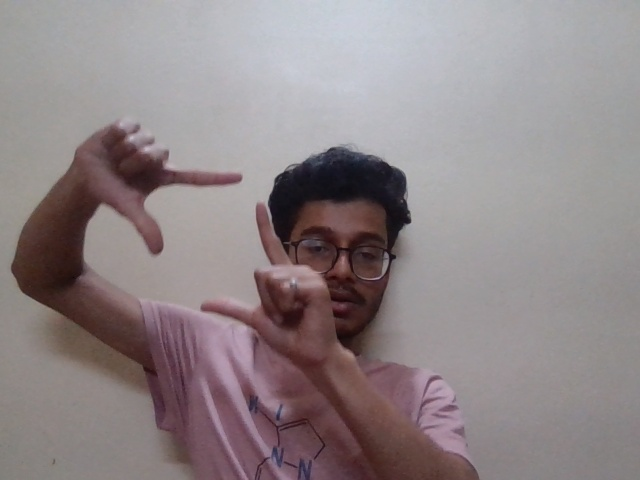video: (60, 118, 363, 378)
